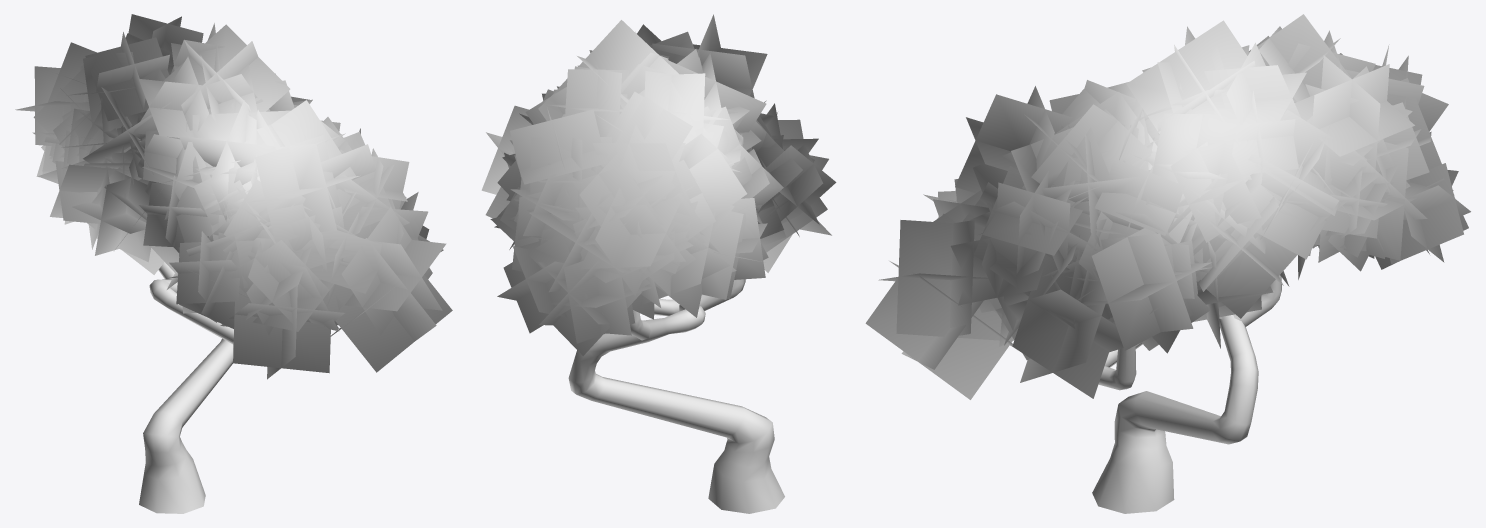
Rendered from STSwiggly1.glb.
The picture shows the model from 3 angles, left to right: view 1: azimuth 30°, elevation 25°; view 2: azimuth 150°, elevation 25°; view 3: azimuth 270°, elevation 25°; orthographic projection. The views are drawn at different scales.
Visible parts, largest first — view 1: Leaf.024; view 2: Leaf.024; view 3: Leaf.024.
Boxes of the visible parts, x1=… form: Leaf.024: x1=15, y1=14, x2=452, y2=513; Leaf.024: x1=481, y1=14, x2=836, y2=513; Leaf.024: x1=865, y1=14, x2=1470, y2=513.
Bounding box in the file's own units: 4.46 × 5.99 × 6.46.
Materials: 2 (1 with a texture image).
